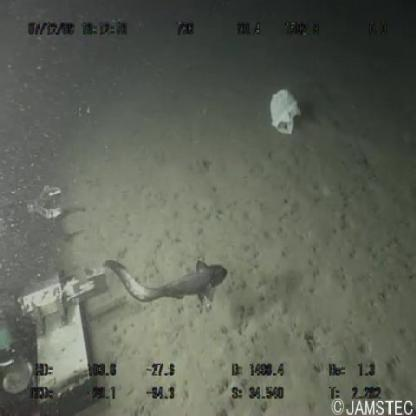Bio: (99, 252, 237, 311)
Rov: (1, 159, 118, 416)
Rác: (268, 85, 304, 144)
